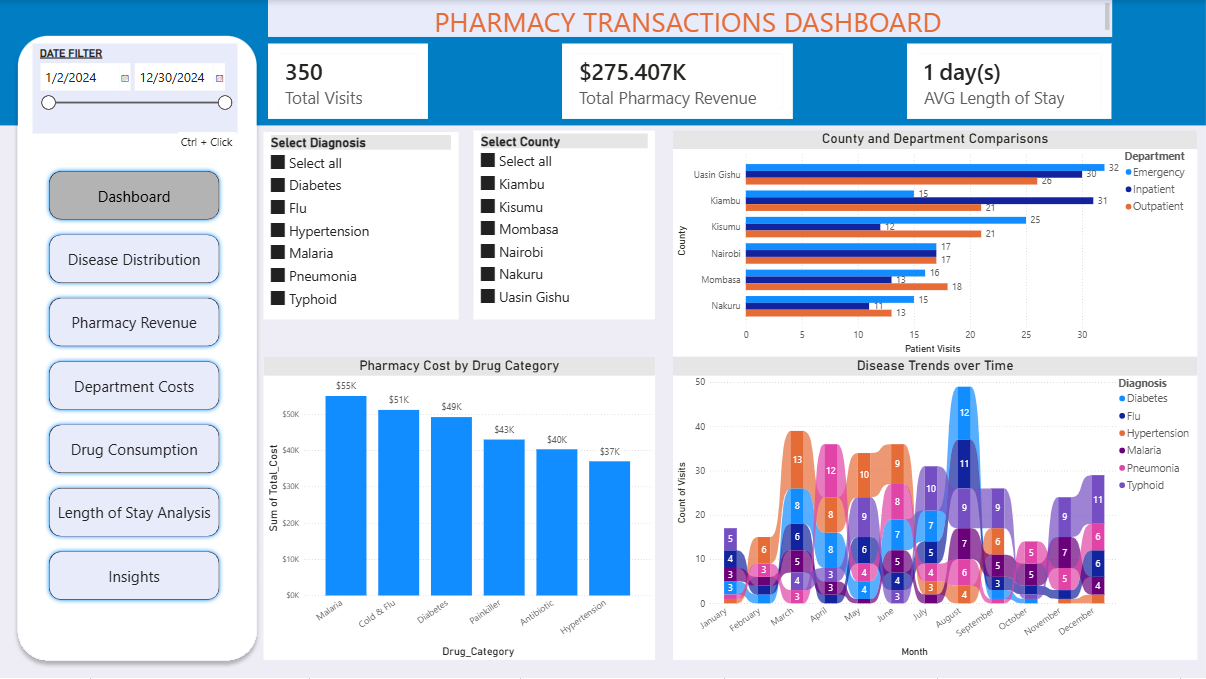

What the dashboard file says about the page in this screenshot:
{"tool":"powerbi","page":{"name":"Dashboard","canvas":[2600,1200],"ordinal":0},"visuals":[{"type":"cardVisual","fields":{"Data":["Fact Transactions.Count of Visit_ID total for Visit_ID"]},"box":[709.3,76.1,282.7,133.2],"z":0},{"type":"cardVisual","fields":{"Data":["Sum(Fact Transactions.Total_Cost)"]},"box":[1231.2,76.1,407.7,133.2],"z":1000},{"type":"cardVisual","fields":{"Data":["Dim Visits.AVG Length of Stay"]},"box":[1840,76.1,361.5,133.2],"z":2000},{"type":"ribbonChart","title":"Disease Trends over Time","fields":{"Category":["Dim Date.Month Name"],"Series":["Dim Visits.Diagnosis"],"Y":["CountNonNull(Fact Transactions.Visit_ID)"]},"box":[1426.8,630.5,926.8,535.4],"z":3000},{"type":"lineStackedColumnComboChart","title":"Pharmacy Cost by Drug Category","fields":{"Category":["Dim Drug.Drug_Category"],"Y":["Sum(Fact Transactions.Total_Cost)"]},"box":[701.3,630.5,692,535.2],"z":4000},{"type":"slicer","fields":{"Values":["Dim Patients.County"]},"box":[1073.7,230.6,320.8,334],"z":5000},{"type":"slicer","fields":{"Values":["Dim Visits.Diagnosis"]},"box":[702.5,233.3,344.6,331.4],"z":6000},{"type":"slicer","fields":{"Values":["Dim Date.Date"]},"box":[293.5,76.1,361.5,157.6],"z":7000},{"type":"clusteredBarChart","title":"County and Department Comparisons","fields":{"Category":["Dim Patients.County"],"Series":["Dim Visits.Department"],"Y":["CountNonNull(Fact Transactions.Patient_ID)"]},"box":[1426.8,231,926.8,399.5],"z":8000},{"type":"pageNavigator","box":[315.3,293.5,318,774.6],"z":9000},{"type":"textbox","box":[709.3,0,1492.1,65.2],"z":10000},{"type":"textbox","box":[551.7,233.7,103.3,35.3],"z":10001}]}

Visuals, with their boxes on the page's 2600x1200 design canvas (x1, y1, x2, y2). These are canvas units, not pixel positions in the 1206x679 screenshot, which may show the page scaled, cropped or inside an application window:
cardVisual - Fact Transactions.Count of Visit_ID total for Visit_ID: {"left": 709, "top": 76, "right": 992, "bottom": 209}
cardVisual - Sum(Fact Transactions.Total_Cost): {"left": 1231, "top": 76, "right": 1639, "bottom": 209}
cardVisual - Dim Visits.AVG Length of Stay: {"left": 1840, "top": 76, "right": 2202, "bottom": 209}
"Disease Trends over Time" ribbonChart: {"left": 1427, "top": 630, "right": 2354, "bottom": 1166}
"Pharmacy Cost by Drug Category" lineStackedColumnComboChart: {"left": 701, "top": 630, "right": 1393, "bottom": 1166}
slicer - Dim Patients.County: {"left": 1074, "top": 231, "right": 1394, "bottom": 565}
slicer - Dim Visits.Diagnosis: {"left": 702, "top": 233, "right": 1047, "bottom": 565}
slicer - Dim Date.Date: {"left": 294, "top": 76, "right": 655, "bottom": 234}
"County and Department Comparisons" clusteredBarChart: {"left": 1427, "top": 231, "right": 2354, "bottom": 630}
pageNavigator: {"left": 315, "top": 294, "right": 633, "bottom": 1068}
textbox: {"left": 709, "top": 0, "right": 2201, "bottom": 65}
textbox: {"left": 552, "top": 234, "right": 655, "bottom": 269}
